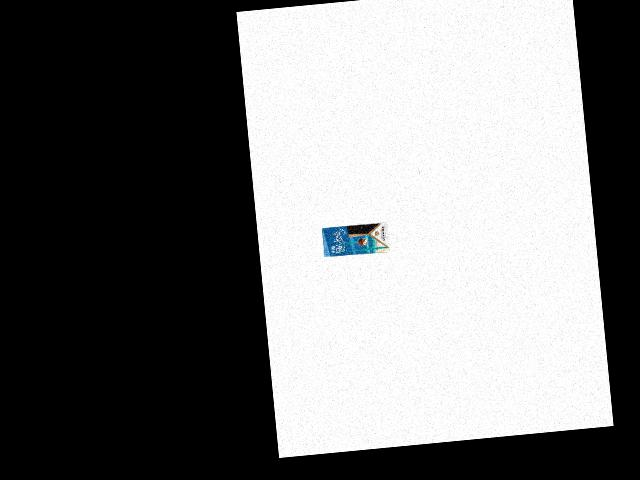chocolate: (320, 219, 392, 259)
